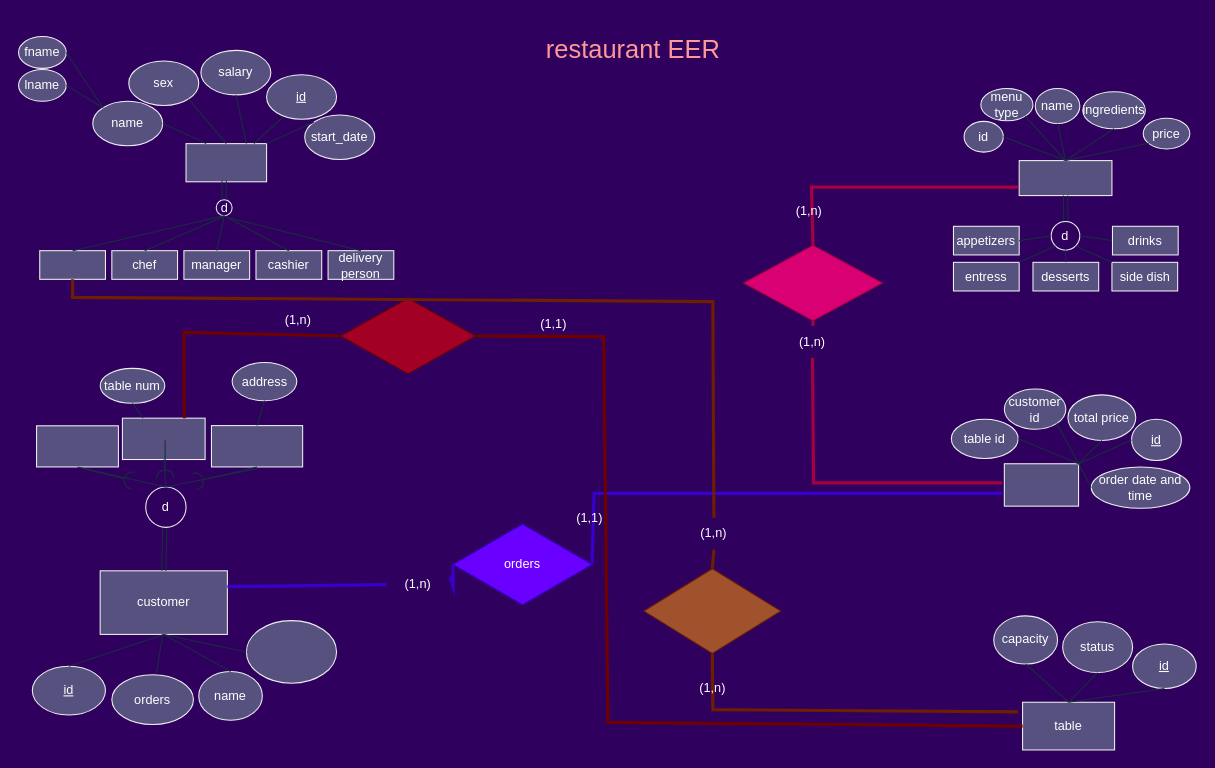
Some shapes in this 1215 by 768 pixel diagram are drawn without their labels. The centre of each missing label's shape, as x and y in pixels:
"chosen from" belongs at point (812, 282).
"delivery" belongs at point (256, 446).
"in person" belongs at point (163, 438).
"menu" belongs at point (1065, 178).
"order" belongs at point (1041, 484).
"phone number" belongs at point (291, 651).
"reserves/uses" belongs at point (407, 335).
"services to" belongs at point (712, 610).
"staff" belongs at point (226, 162).
"takeaway" belongs at point (77, 446).
"waiter" belongs at point (72, 264).
